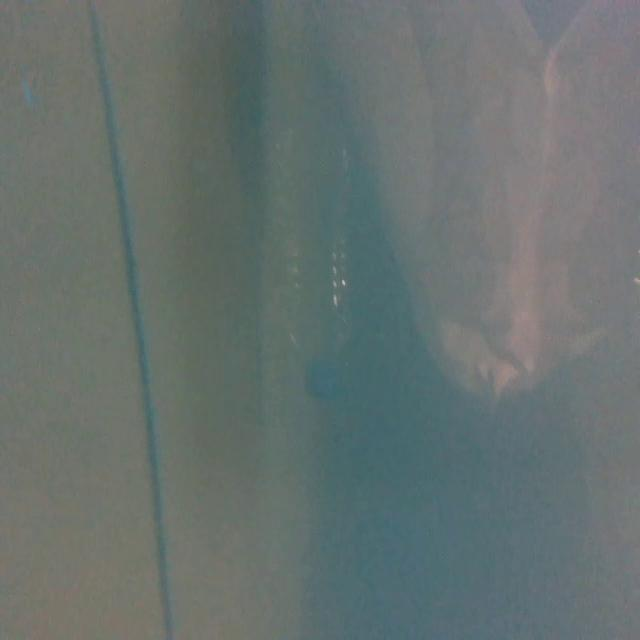plastic bags: (370, 0, 640, 418)
plastic bottle: (277, 114, 362, 420)
